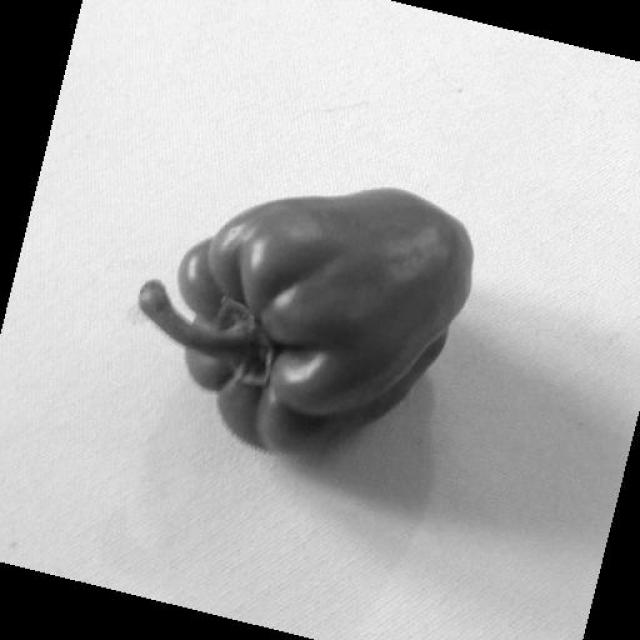Fresh_Capsicum: (175, 201, 478, 407)
